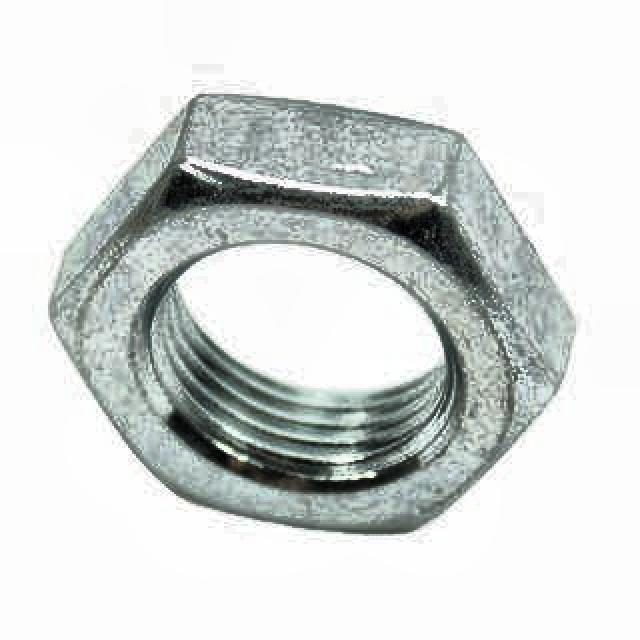Nut Detection - v1 Nut Dataset: (38, 88, 588, 536)
